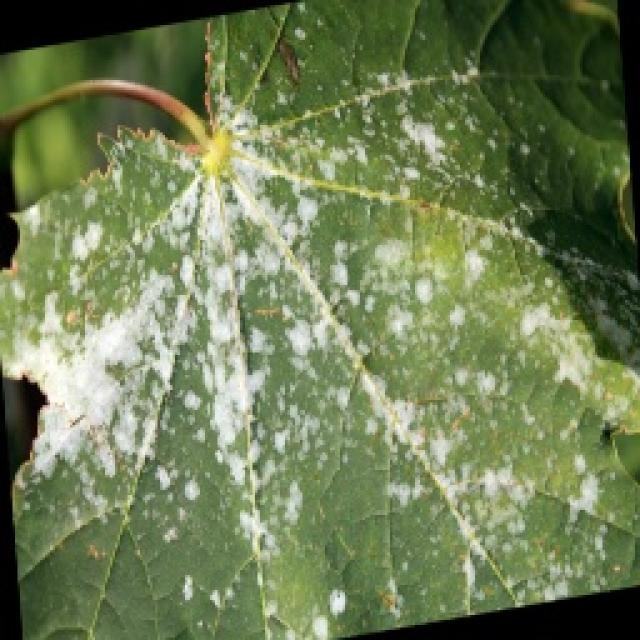Powdery Mildew: (0, 65, 638, 637)
